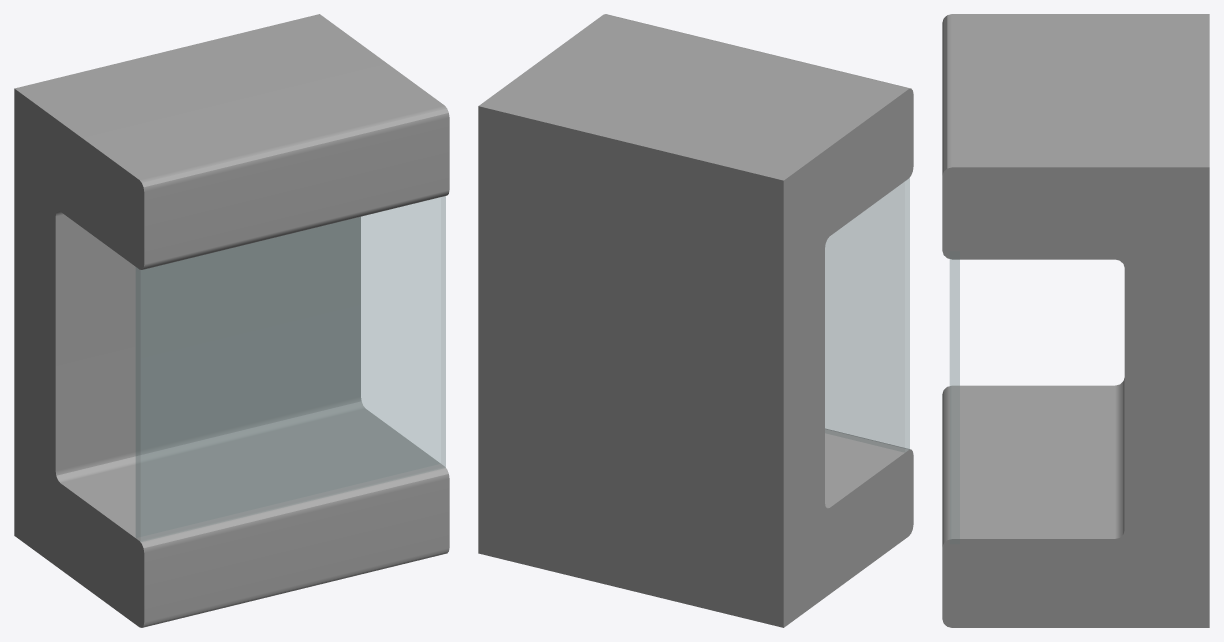
Rendered from WallWindow_Centre.fbx.
The picture shows the model from 3 angles, left to right: view 1: azimuth 30°, elevation 25°; view 2: azimuth 150°, elevation 25°; view 3: azimuth 270°, elevation 25°; orthographic projection. The views are drawn at different scales.
Visible parts, largest first — view 1: WallWindow_Centre; view 2: WallWindow_Centre; view 3: WallWindow_Centre.
Boxes of the visible parts, x1=… form: WallWindow_Centre: x1=14, y1=14, x2=449, y2=627; WallWindow_Centre: x1=478, y1=14, x2=913, y2=627; WallWindow_Centre: x1=942, y1=14, x2=1209, y2=627.
Bounding box in the file's own units: 500 × 700 × 368.
